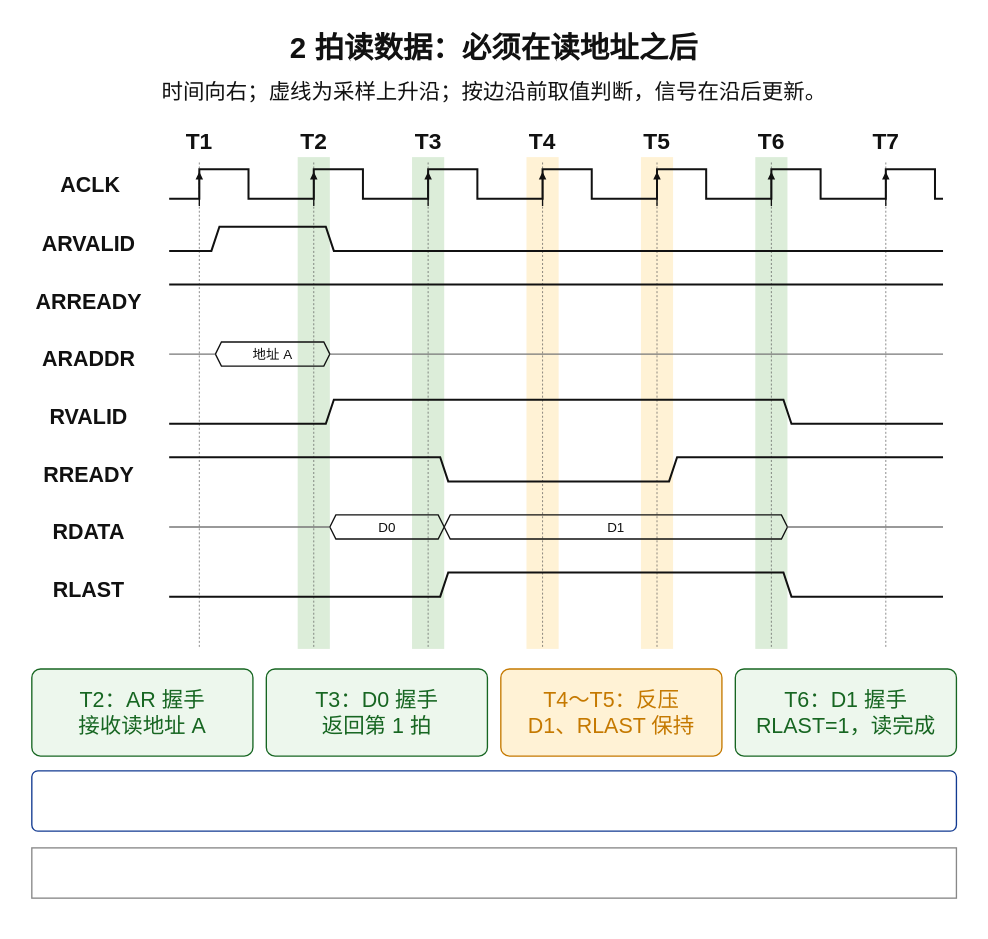
Image size: 988x939. Some labels were removed from this diagram. The shapes that lost their labels are listed below. From the top down, each one's box as (x1, y1, x2, y2) in pixels, then its label:
(31, 770, 957, 831): T2 先完成读地址握手，Slave 才能在其后返回对应的读数据；末拍必须等到 RVALID、RREADY、RLAST 同为 1 的上升沿才完成。
(31, 847, 957, 898): ARLEN=1（2 拍）；RRESP=OKAY；T4～T5 反压。补充图（非原文图）
